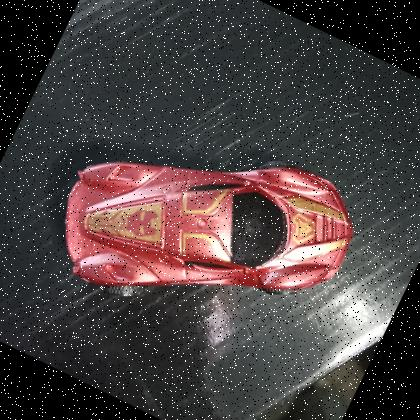Car: (27, 72, 377, 386)
